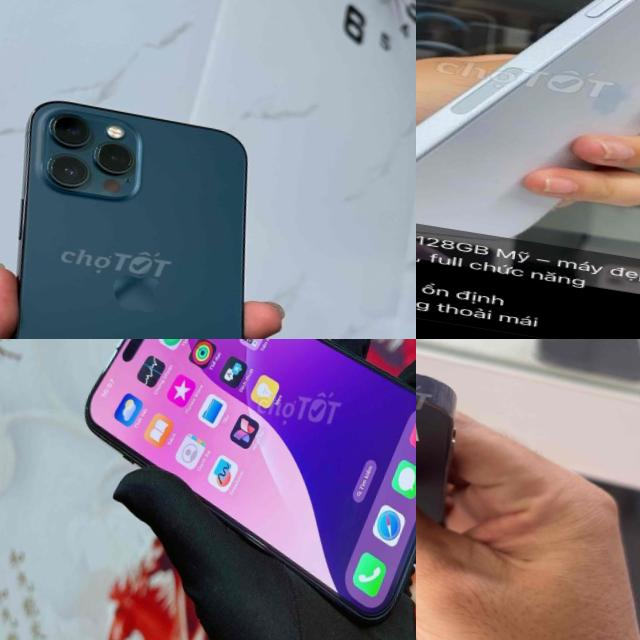gen_12_13: (0, 95, 300, 339)
gen_14: (416, 339, 481, 549)
gen_15: (56, 339, 416, 637), (416, 0, 640, 301)
